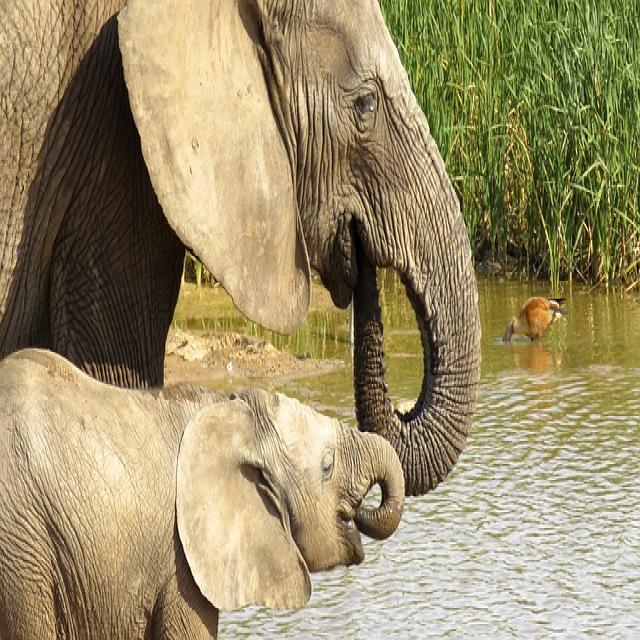elephant: (0, 3, 480, 493), (0, 349, 405, 638)
